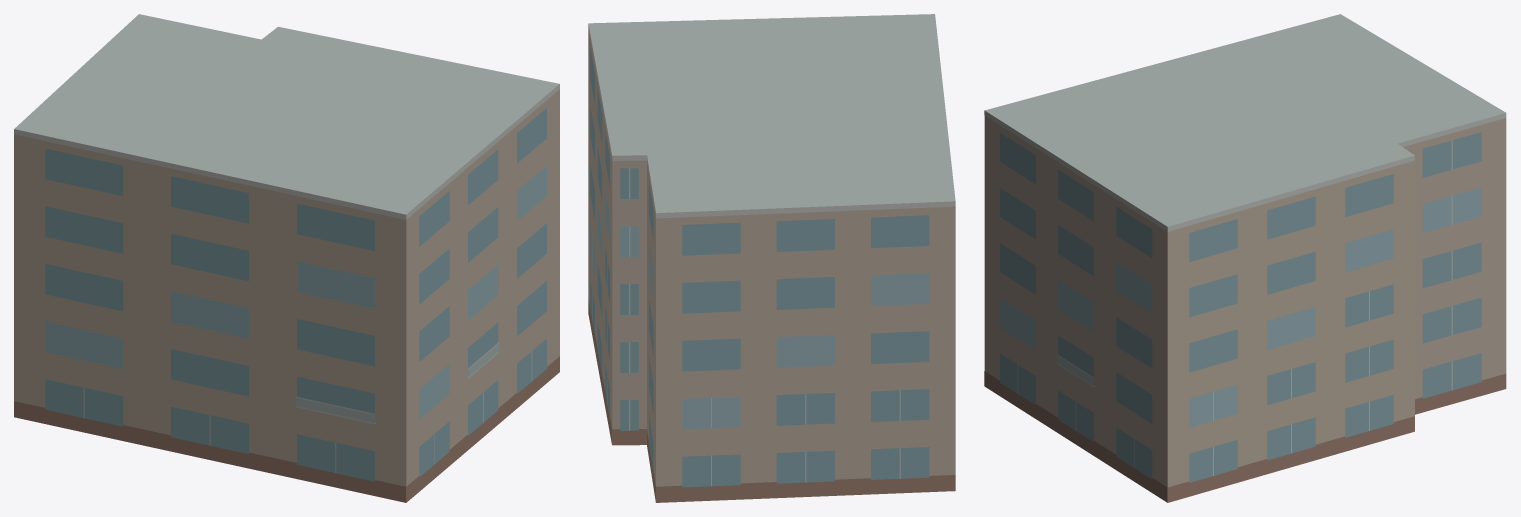
The model's file is survey-upis-32680322.glb.
3 views of the same model, side by side, from view 1: azimuth 30°, elevation 25°; view 2: azimuth 150°, elevation 25°; view 3: azimuth 270°, elevation 25° (orthographic). The views are drawn at different scales.
Visible parts, largest first — view 1: survey-upis-32680322.tmp; view 2: survey-upis-32680322.tmp; view 3: survey-upis-32680322.tmp.
Boxes of the visible parts, box(x1,y1,x2,y2) form: survey-upis-32680322.tmp: box(14, 14, 559, 502); survey-upis-32680322.tmp: box(588, 14, 955, 502); survey-upis-32680322.tmp: box(984, 14, 1506, 502).
Size of the model in its own units: 22.18 by 13.4 by 22.97.
